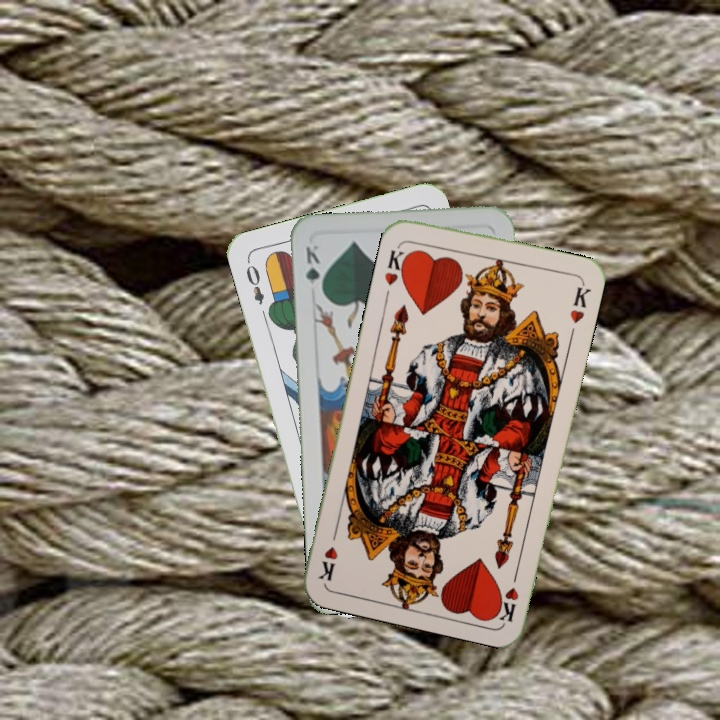EO: (242, 256, 267, 307)
GK: (301, 241, 325, 298)
HK: (492, 564, 522, 624), (380, 240, 413, 288)
